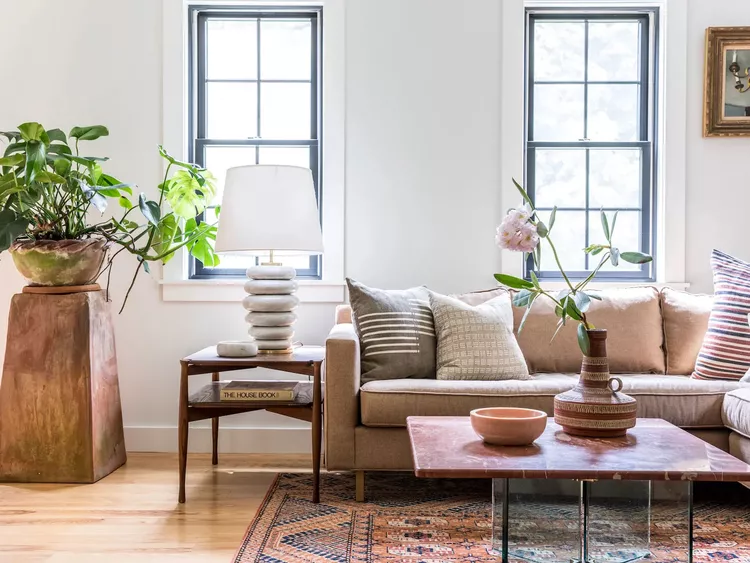flower vase: (491, 177, 655, 437)
side table: (177, 343, 323, 508)
small plant: (0, 116, 220, 286)
sofa: (319, 250, 749, 504)
table: (403, 409, 750, 541)
table lamp: (215, 161, 328, 357)
wall art: (698, 20, 750, 141)
